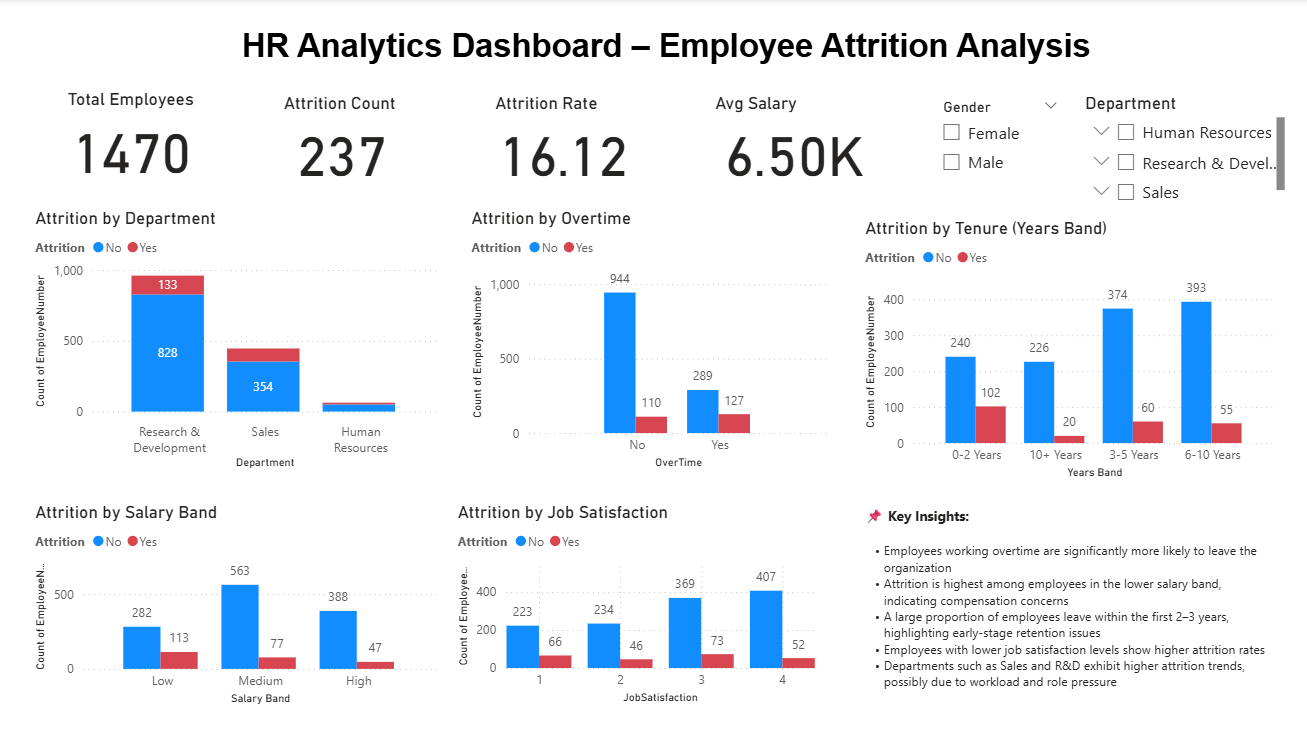

The page's visual inventory and layout, read from the dashboard file:
{"tool":"powerbi","page":{"name":"Page 1","canvas":[1280,720],"ordinal":0},"visuals":[{"type":"card","title":"Total Employees","fields":{"Values":["IBM HR Employee Attrition Data.Total Employees"]},"box":[62.3,88,134.5,92.9],"z":0},{"type":"card","title":"Attrition Count","fields":{"Values":["IBM HR Employee Attrition Data.Attrition Count"]},"box":[273.8,91.7,123.5,92.9],"z":1},{"type":"card","title":"Avg Salary","fields":{"Values":["IBM HR Employee Attrition Data.Avg Salary"]},"box":[695.6,91.7,165,92.9],"z":2},{"type":"card","title":"Attrition Rate","fields":{"Values":["IBM HR Employee Attrition Data.Attrition Rate"]},"box":[480.4,91.7,143,92.9],"z":3},{"type":"columnChart","title":"Attrition by Department","fields":{"Category":["IBM HR Employee Attrition Data.Department"],"Y":["CountNonNull(IBM HR Employee Attrition Data.EmployeeNumber)"],"Series":["IBM HR Employee Attrition Data.Attrition"]},"box":[31,203.8,403.5,260.4],"z":4},{"type":"clusteredColumnChart","title":"Attrition by Overtime","fields":{"Category":["IBM HR Employee Attrition Data.OverTime"],"Y":["CountNonNull(IBM HR Employee Attrition Data.EmployeeNumber)"],"Series":["IBM HR Employee Attrition Data.Attrition"]},"box":[457.4,203.8,358.9,260.4],"z":5},{"type":"clusteredColumnChart","title":"Attrition by Salary Band","fields":{"Category":["IBM HR Employee Attrition Data.Salary Band"],"Y":["CountNonNull(IBM HR Employee Attrition Data.EmployeeNumber)"],"Series":["IBM HR Employee Attrition Data.Attrition"]},"box":[31,491.2,403.5,203.8],"z":6},{"type":"clusteredColumnChart","title":"Attrition by Job Satisfaction","fields":{"Category":["IBM HR Employee Attrition Data.JobSatisfaction"],"Y":["CountNonNull(IBM HR Employee Attrition Data.EmployeeNumber)"],"Series":["IBM HR Employee Attrition Data.Attrition"]},"box":[443.7,491.4,359.4,202.9],"z":7},{"type":"clusteredColumnChart","title":"Attrition by Tenure (Years Band)","fields":{"Series":["IBM HR Employee Attrition Data.Attrition"],"Y":["CountNonNull(IBM HR Employee Attrition Data.EmployeeNumber)"],"Category":["IBM HR Employee Attrition Data.Years Band"]},"box":[842,214.5,411.6,260.4],"z":8},{"type":"textbox","box":[842.2,491.4,410.7,190.7],"z":9},{"type":"textbox","box":[52.6,23.2,1200.4,47.7],"z":10},{"type":"slicer","title":"Department","fields":{"Values":["IBM HR Employee Attrition Data.Department","IBM HR Employee Attrition Data.JobRole","IBM HR Employee Attrition Data.Gender"]},"box":[1057.9,91.8,205.1,112],"z":11},{"type":"slicer","fields":{"Values":["IBM HR Employee Attrition Data.Gender"]},"box":[910.7,91.7,136.9,92.9],"z":12}]}

Visuals, with their boxes in screenshot pixels (x1, y1, x2, y2), scaled from the page's 1280x720 canvas onto the 1307x734 screenshot:
"Total Employees" card: (left=64, top=90, right=201, bottom=184)
"Attrition Count" card: (left=280, top=93, right=406, bottom=188)
"Avg Salary" card: (left=710, top=93, right=879, bottom=188)
"Attrition Rate" card: (left=491, top=93, right=637, bottom=188)
"Attrition by Department" columnChart: (left=32, top=208, right=444, bottom=473)
"Attrition by Overtime" clusteredColumnChart: (left=467, top=208, right=834, bottom=473)
"Attrition by Salary Band" clusteredColumnChart: (left=32, top=501, right=444, bottom=709)
"Attrition by Job Satisfaction" clusteredColumnChart: (left=453, top=501, right=820, bottom=708)
"Attrition by Tenure (Years Band)" clusteredColumnChart: (left=860, top=219, right=1280, bottom=484)
textbox: (left=860, top=501, right=1279, bottom=695)
textbox: (left=54, top=24, right=1279, bottom=72)
"Department" slicer: (left=1080, top=94, right=1290, bottom=208)
slicer - IBM HR Employee Attrition Data.Gender: (left=930, top=93, right=1070, bottom=188)
